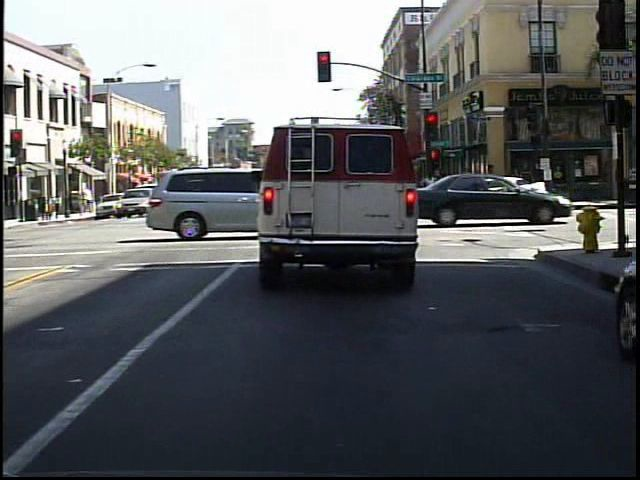person: (527, 158, 548, 208), (507, 162, 528, 206)
